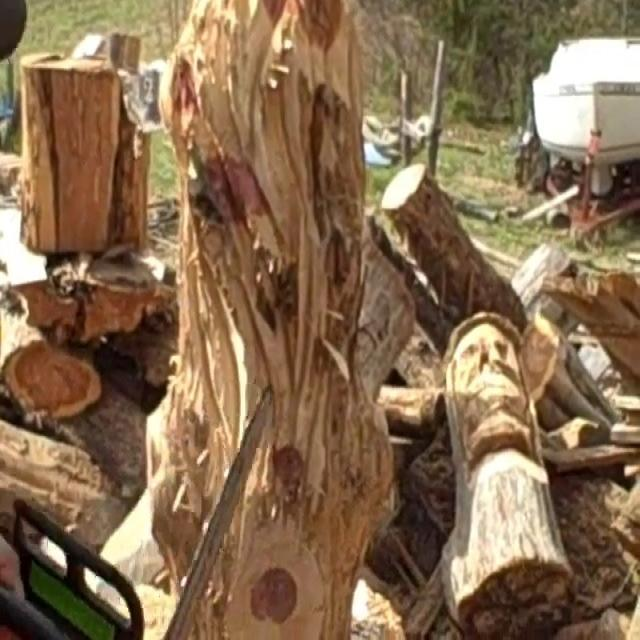Chainsaw: (0, 356, 291, 640)
